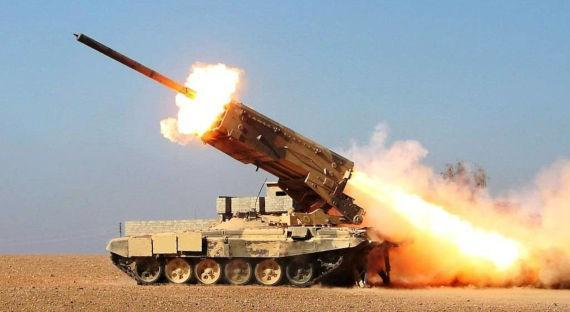rszo: (47, 23, 422, 296)
